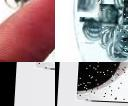ironball: (75, 62, 127, 101), (77, 15, 104, 40), (98, 2, 118, 24), (114, 27, 127, 56), (77, 0, 101, 11), (121, 0, 127, 24)
